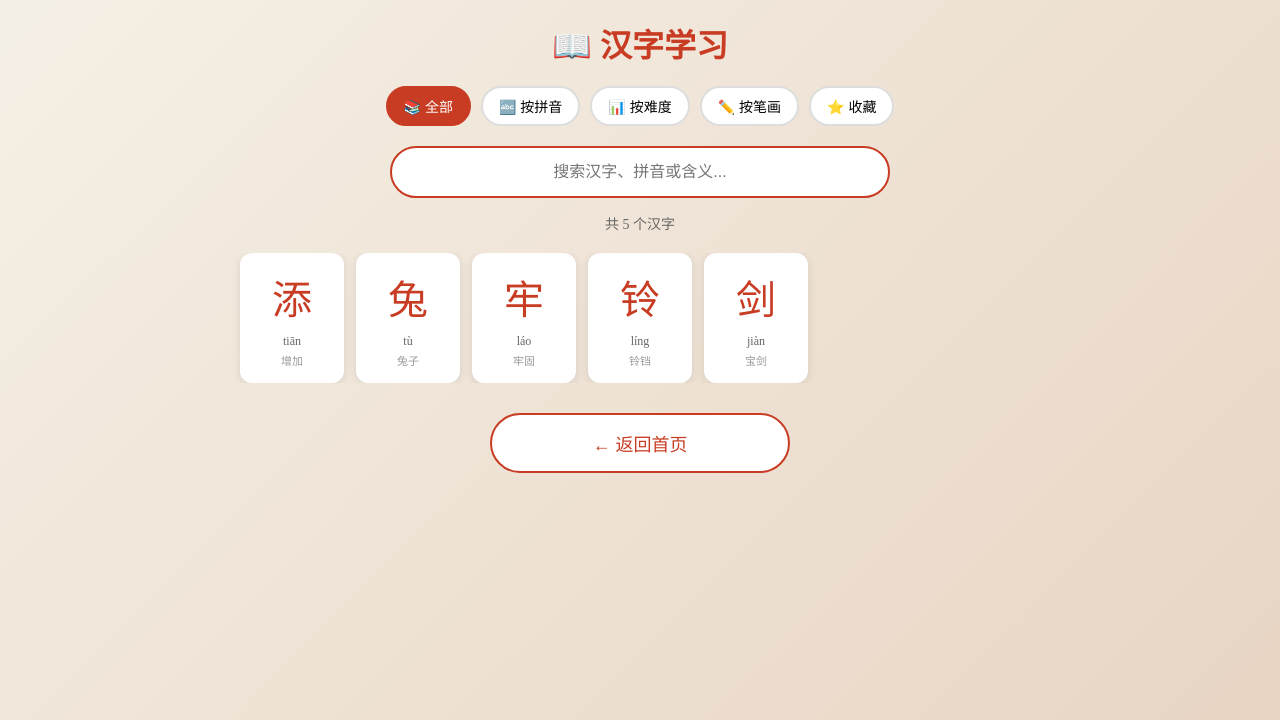
Scenario: Learn page › Category switching › should switch to favorites mode
Click the button "⭐ 收藏" at (852, 106), box [809,86,894,126]
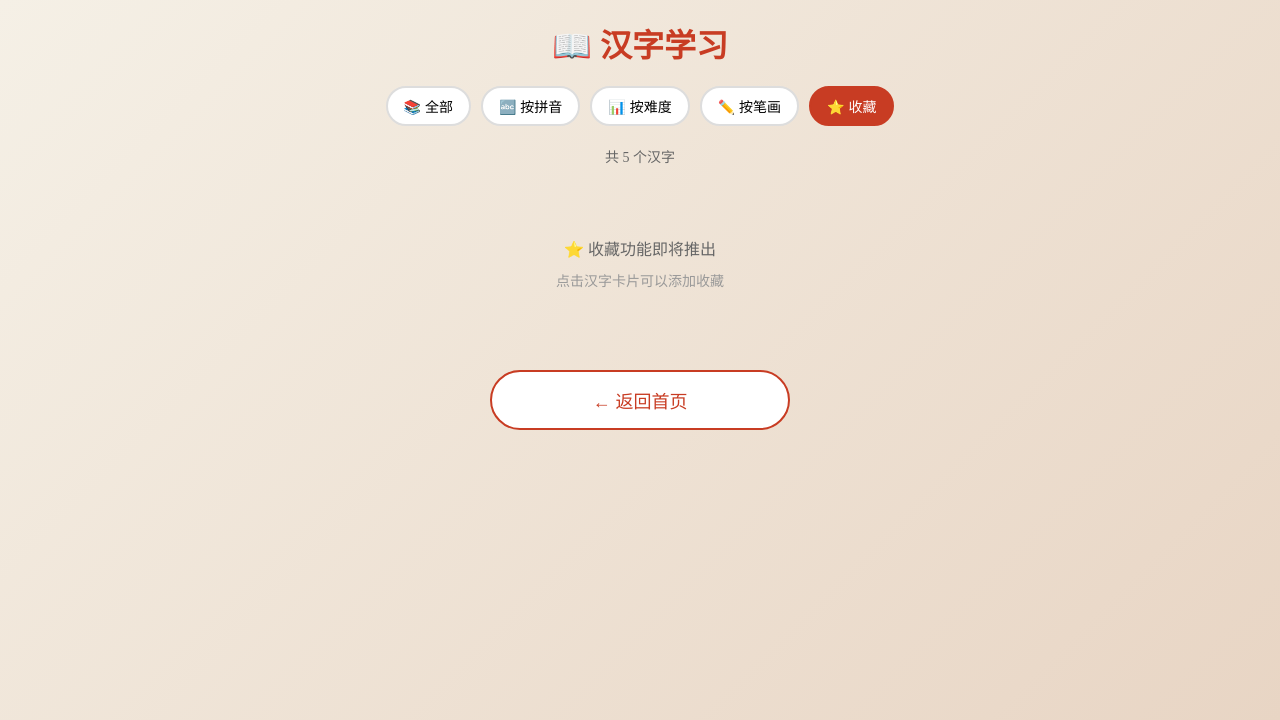
Check: the text "⭐ 收藏功能即将推出" is shown, box [564,241,716,258]
